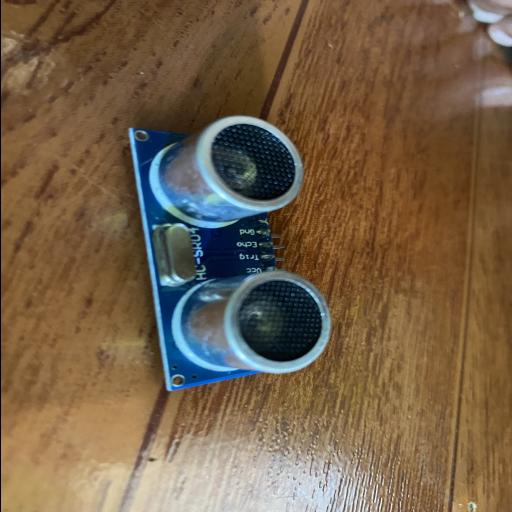Ultrasonic Sensor: (127, 114, 332, 392)
